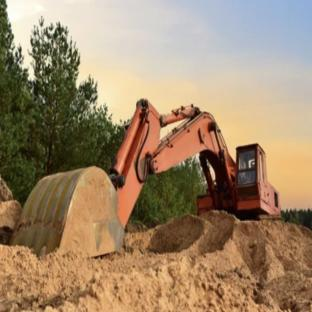ExcavationMachinery: (15, 34, 287, 257)
